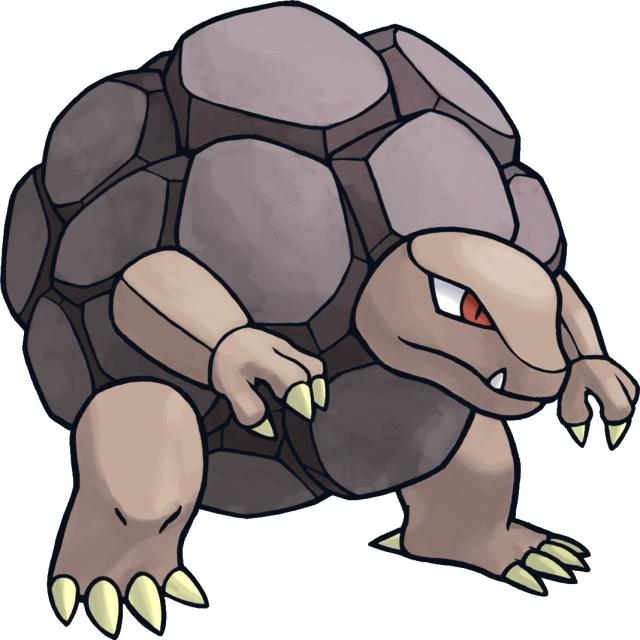Golem: (16, 5, 630, 599)
